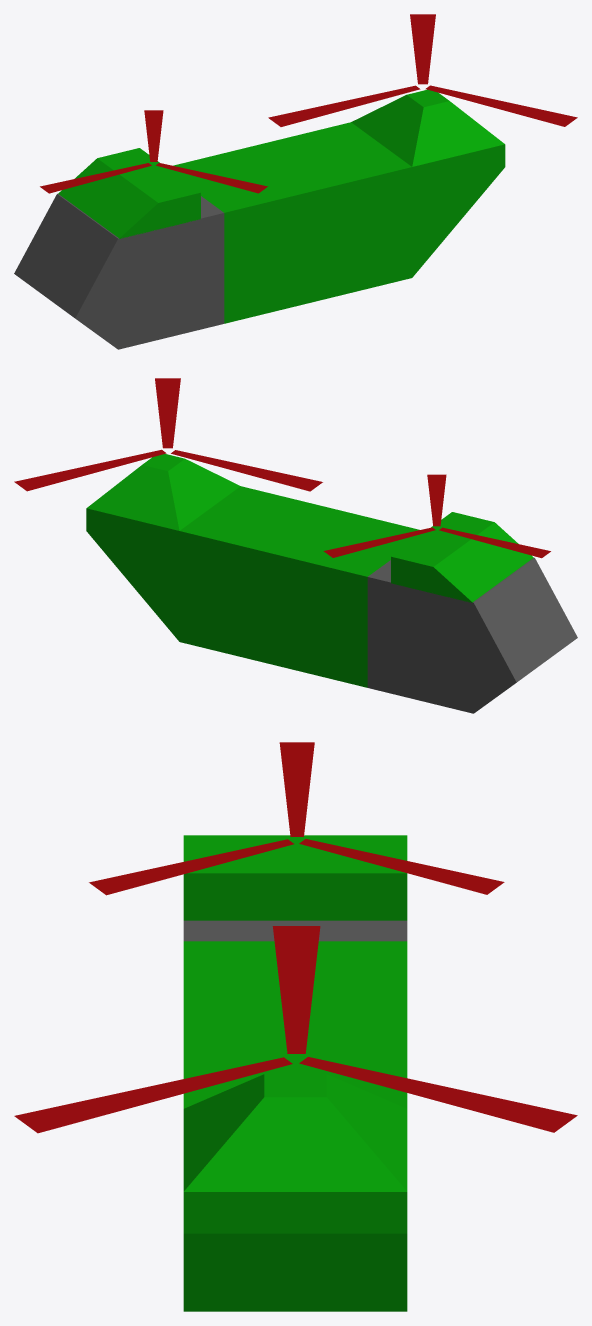
The model's file is enigma_helicopter_v2.obj.
The picture shows the model from 3 angles, top to bottom: view 1: azimuth 30°, elevation 25°; view 2: azimuth 150°, elevation 25°; view 3: azimuth 270°, elevation 25°; orthographic projection. The views are drawn at different scales.
Parts seen in each view (by area): view 1: Cube, Cube.002_Cube.003, Cube.001_Cube.002; view 2: Cube, Cube.002_Cube.003, Cube.001_Cube.002; view 3: Cube, Cube.002_Cube.003, Cube.001_Cube.002.
Part boxes in pixels (x1,y1,x2,y2): Cube: (14,89,505,349); Cube.002_Cube.003: (268,14,577,126); Cube.001_Cube.002: (40,110,267,193); Cube: (86,454,577,713); Cube.002_Cube.003: (14,378,322,491); Cube.001_Cube.002: (323,474,550,558); Cube: (183,835,407,1311); Cube.002_Cube.003: (14,926,577,1133); Cube.001_Cube.002: (89,742,504,895).
Bounding box in the file's own units: 8.73 × 2.86 × 5.04.
